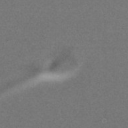normal: (1, 65, 43, 106)
